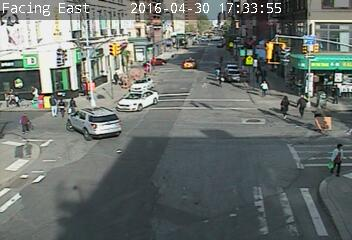neg: (81, 141, 119, 191), (153, 124, 186, 168), (289, 12, 318, 51), (239, 181, 267, 218), (276, 139, 303, 175), (318, 20, 343, 54), (255, 35, 279, 66), (92, 36, 114, 66), (109, 105, 130, 134), (250, 5, 269, 30), (183, 60, 202, 85), (194, 124, 212, 149), (221, 5, 238, 28), (145, 47, 161, 68), (131, 6, 147, 27), (216, 88, 231, 108), (197, 38, 211, 56), (174, 2, 186, 18), (248, 115, 259, 130)
pos: (325, 138, 351, 175), (294, 91, 313, 117), (16, 112, 35, 137), (328, 86, 346, 110), (64, 95, 81, 117), (46, 97, 62, 119), (255, 80, 270, 100), (212, 66, 227, 86), (4, 88, 18, 107), (29, 86, 41, 103), (110, 71, 122, 87)
